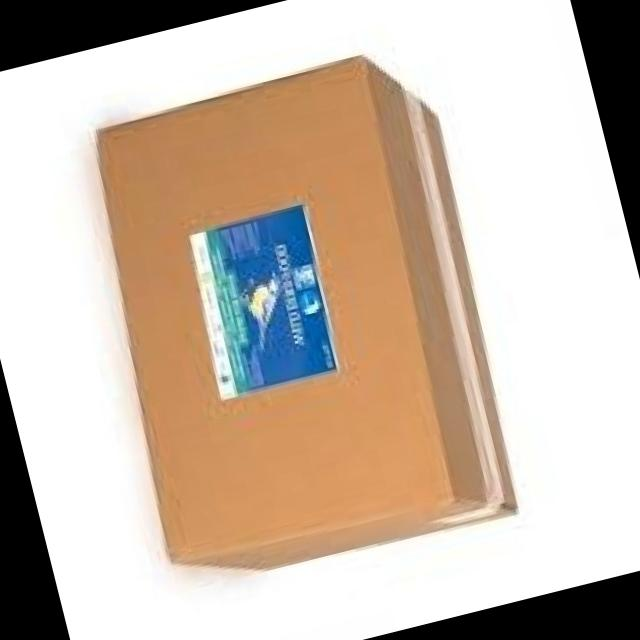cardboard paper: (101, 57, 517, 568)
